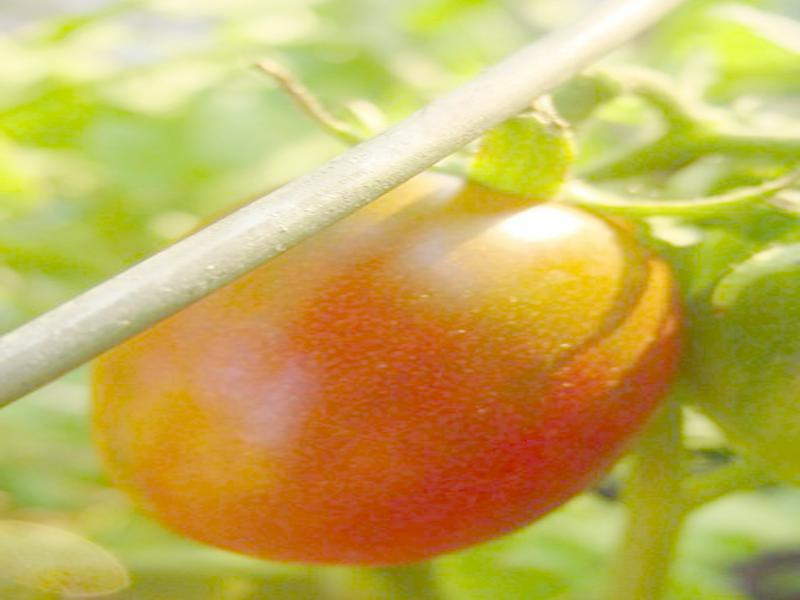Tomato: (99, 173, 675, 565)
